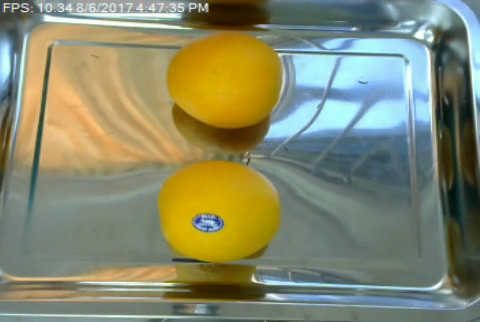Orange: (157, 160, 282, 261), (166, 33, 287, 126)
